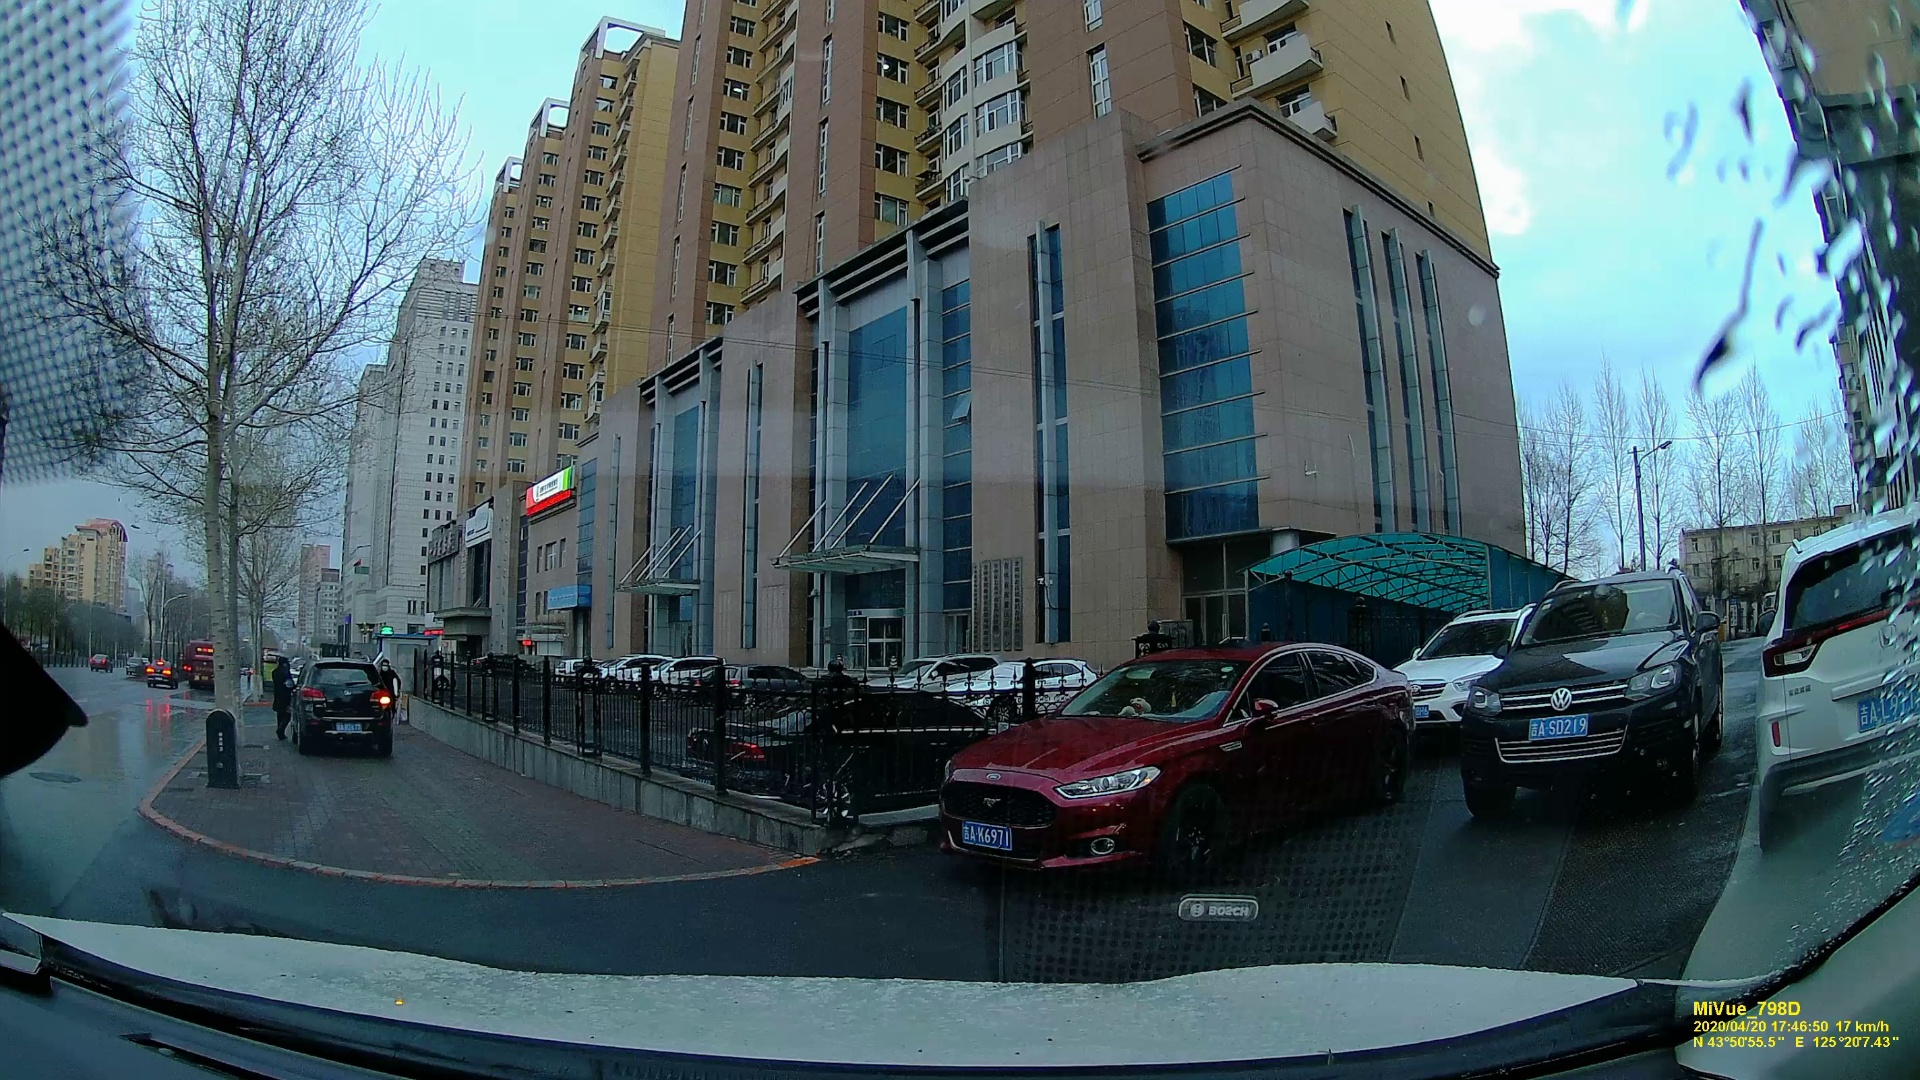bus: (189, 639, 219, 691)
person: (268, 656, 294, 739)
vehicle: (925, 633, 1419, 893), (1467, 564, 1736, 796), (1400, 602, 1523, 737), (294, 656, 391, 758), (146, 659, 179, 690), (89, 654, 111, 672)
